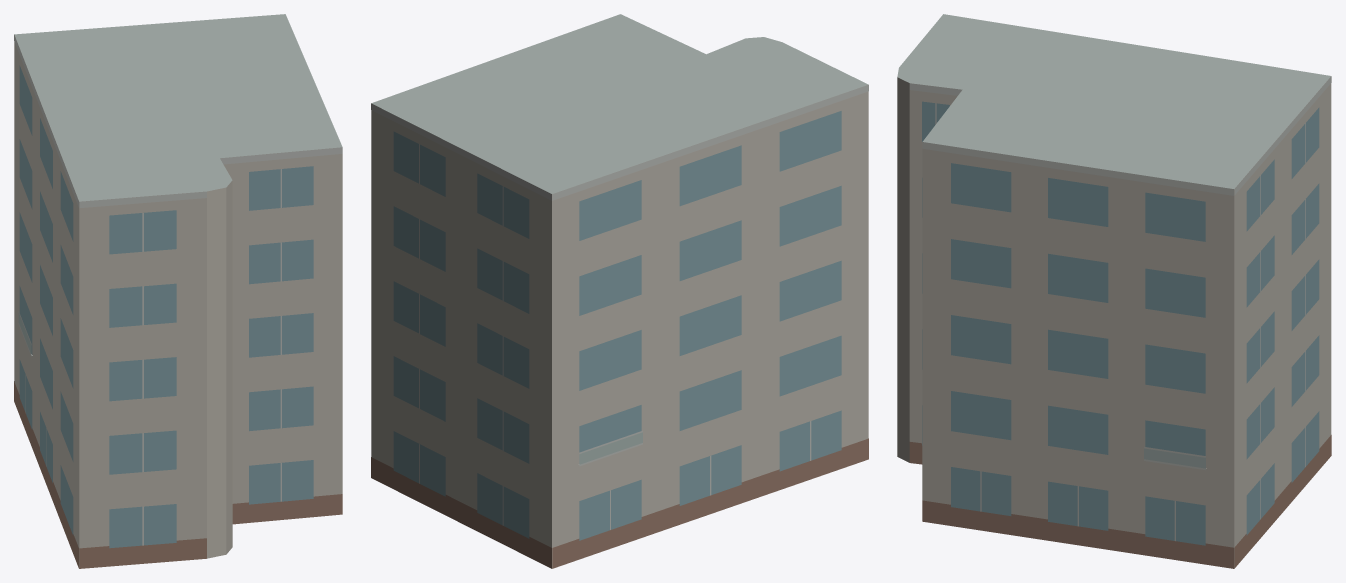
Rendered from survey-upis-32854281.glb.
3 views of the same model, side by side, from view 1: azimuth 30°, elevation 25°; view 2: azimuth 150°, elevation 25°; view 3: azimuth 270°, elevation 25° (orthographic). The views are drawn at different scales.
Visible parts, largest first — view 1: survey-upis-32854281.tmp; view 2: survey-upis-32854281.tmp; view 3: survey-upis-32854281.tmp.
Boxes of the visible parts, x1,y1,x2,y2 form: survey-upis-32854281.tmp: (14,14,342,568); survey-upis-32854281.tmp: (371,14,868,568); survey-upis-32854281.tmp: (897,14,1331,568).
Bounding box in the file's own units: 13.51 × 13.65 × 14.15.
